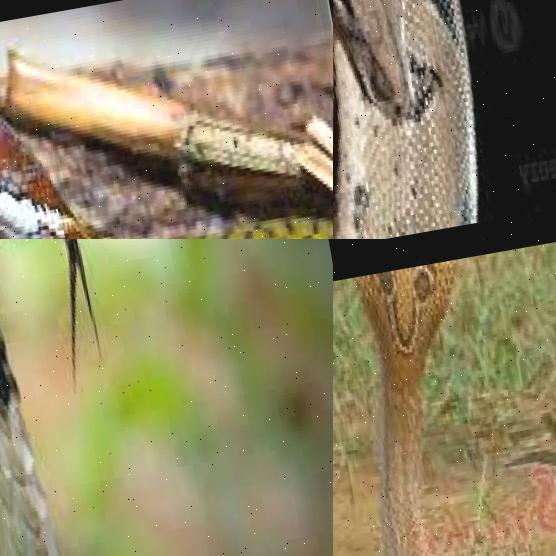snake: (0, 0, 333, 239), (333, 239, 556, 556), (0, 239, 148, 556), (333, 0, 526, 239)
